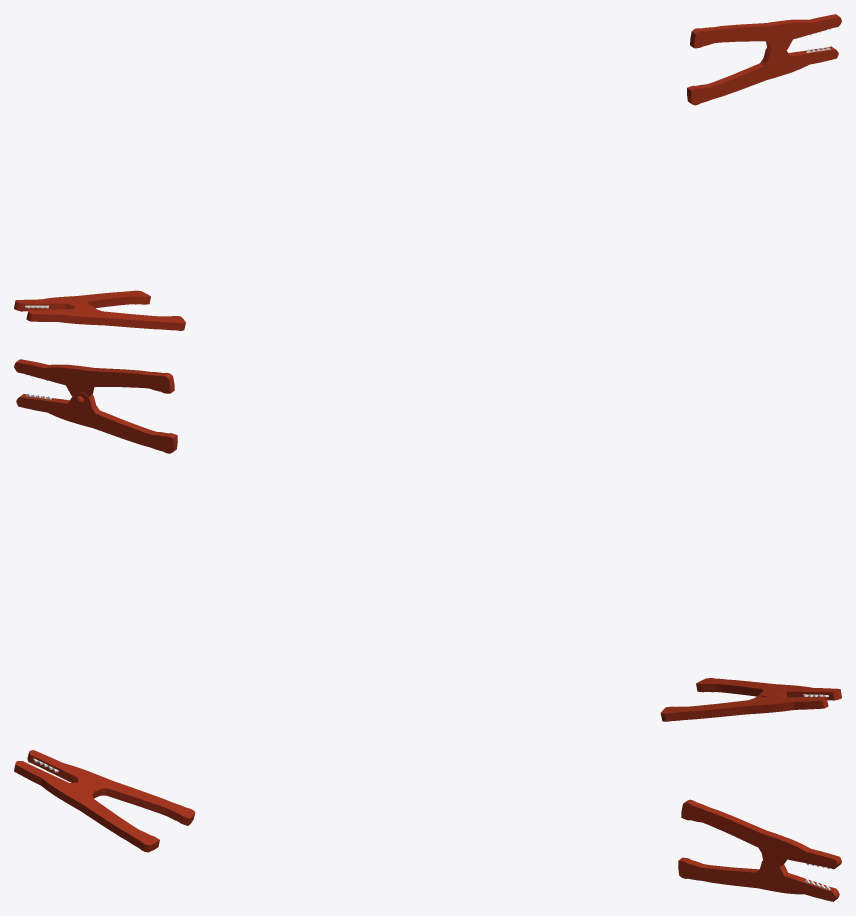
Rendered from clamps.fbx.
3 renders of one model, top to bottom at view 1: azimuth 30°, elevation 25°; view 2: azimuth 150°, elevation 25°; view 3: azimuth 330°, elevation 25°, orthographic. The views are drawn at different scales.
Visible parts, largest first — view 1: pCube15 (×2), pCube14 (×2); view 2: pCube14 (×2), pCube15 (×2); view 3: pCube15 (×2), pCube14 (×2).
Boxes of the visible parts, box(x1,y1,x2,y2) form: pCube15 (×2): box(26, 14, 841, 330); pCube14 (×2): box(14, 46, 838, 311); pCube14 (×2): box(16, 391, 828, 721); pCube15 (×2): box(14, 359, 841, 700); pCube15 (×2): box(14, 761, 841, 870); pCube14 (×2): box(27, 750, 839, 901).
Size of the model in its own units: 5.68 by 1.18 by 0.5623.
